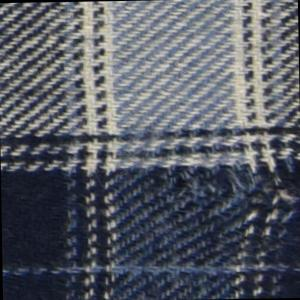Damage: (127, 155, 300, 264)
